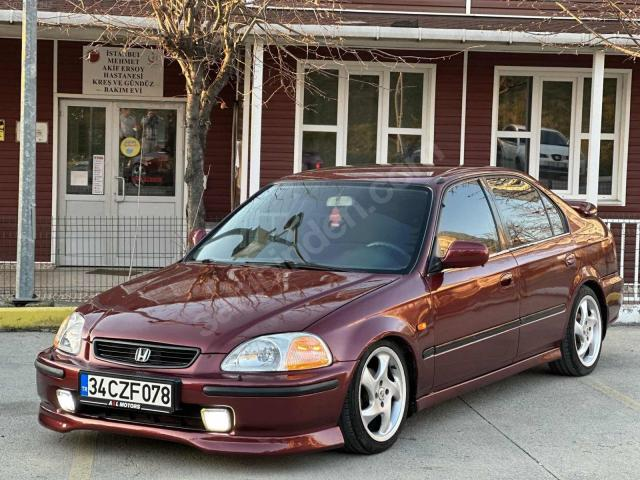plaka: (79, 372, 176, 412)
